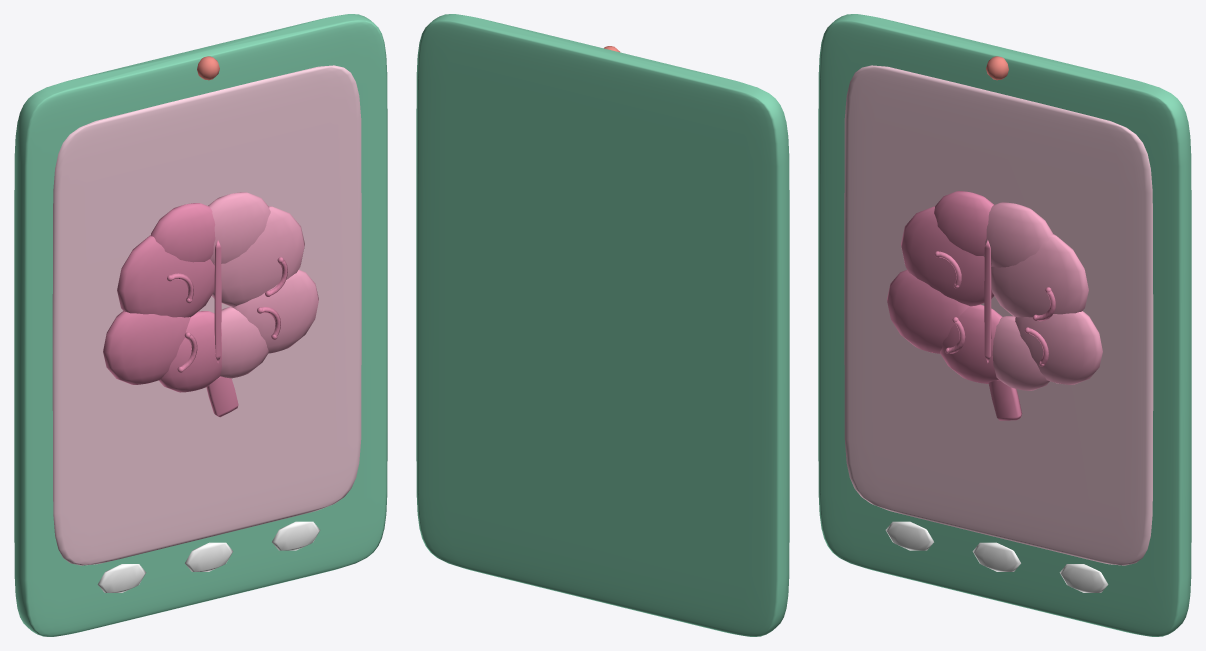
File: poster_brain.glb
3 renders of one model, left to right at view 1: azimuth 30°, elevation 25°; view 2: azimuth 150°, elevation 25°; view 3: azimuth 330°, elevation 25°, orthographic.
Parts seen in each view (by area): view 1: poster_brain; view 2: poster_brain; view 3: poster_brain.
Part boxes in pixels (x1=…): poster_brain: x1=14, y1=14, x2=387, y2=636; poster_brain: x1=416, y1=14, x2=789, y2=636; poster_brain: x1=818, y1=14, x2=1191, y2=636.
Bounding box in the file's own units: 1.05 × 1.5 × 0.128.
Materials: 1 (1 with a texture image).
